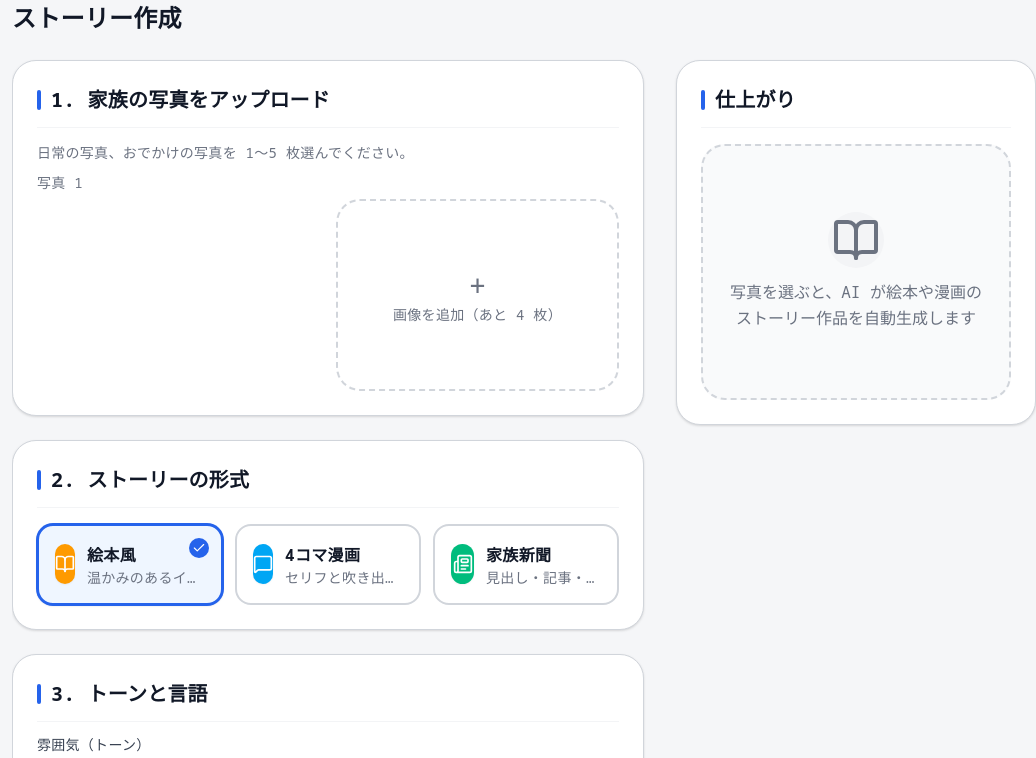
StoryCreator › changes story format and tone options
What coordinates should you click on to do the following:
click the button "4コマ漫画 セリフと吹き出し付きのコマ割り漫画"
I would click on:
 (328, 564)
Its box is [235, 524, 421, 605].
(page scrolled)
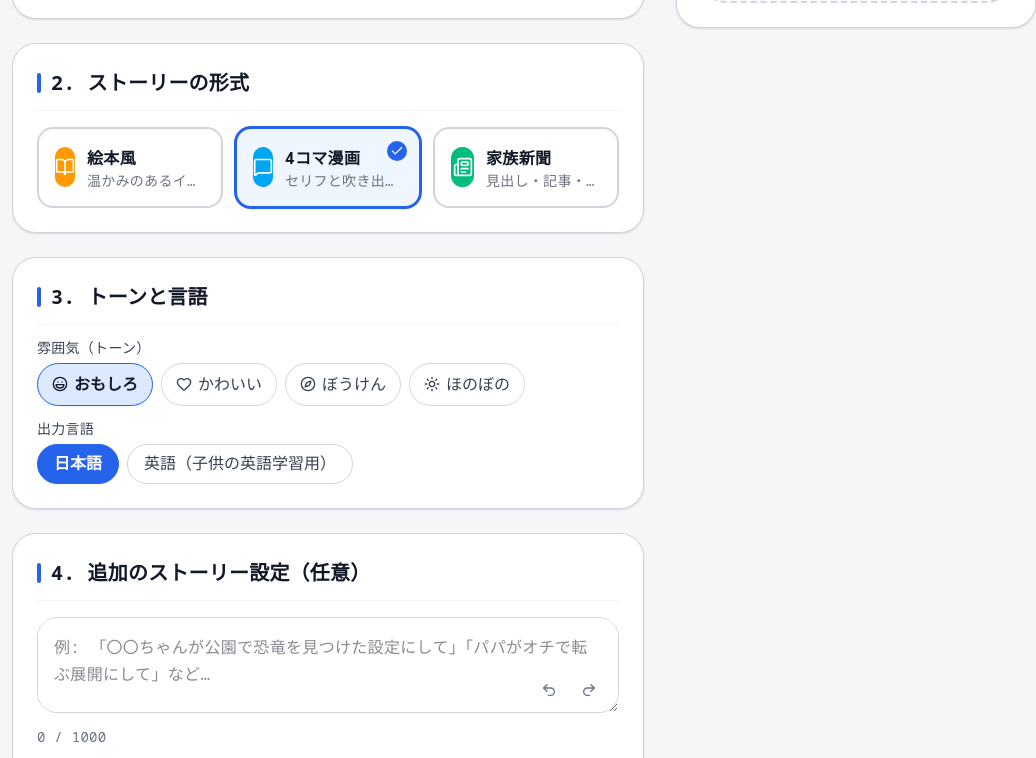
expect the button "4コマ漫画 セリフと吹き出し付きのコマ割り漫画" is pressed: met, box [235, 127, 421, 208]
What coordinates should you click on to do the following:
click the button "かわいい"
I would click on:
 (219, 384)
Its box is [161, 363, 277, 406].
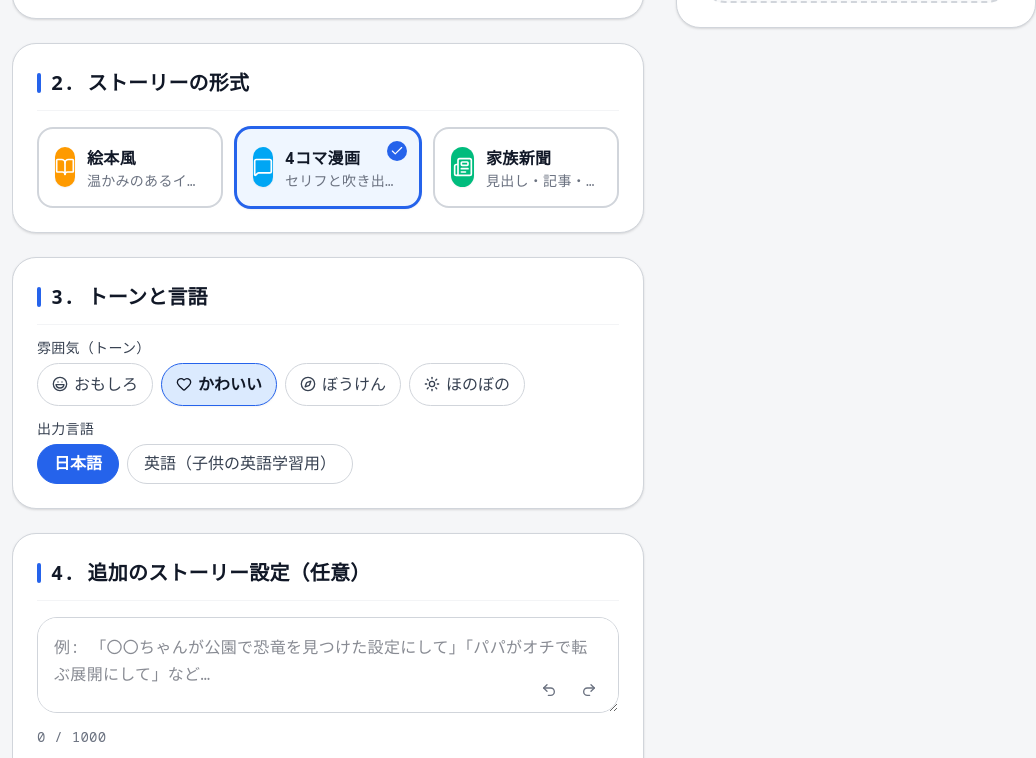
expect the button "かわいい" is pressed: met, box [161, 363, 277, 406]
